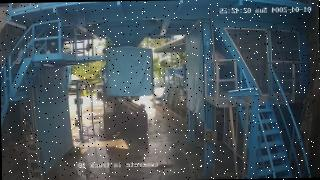cement_mixer_truck: (96, 84, 148, 139)
